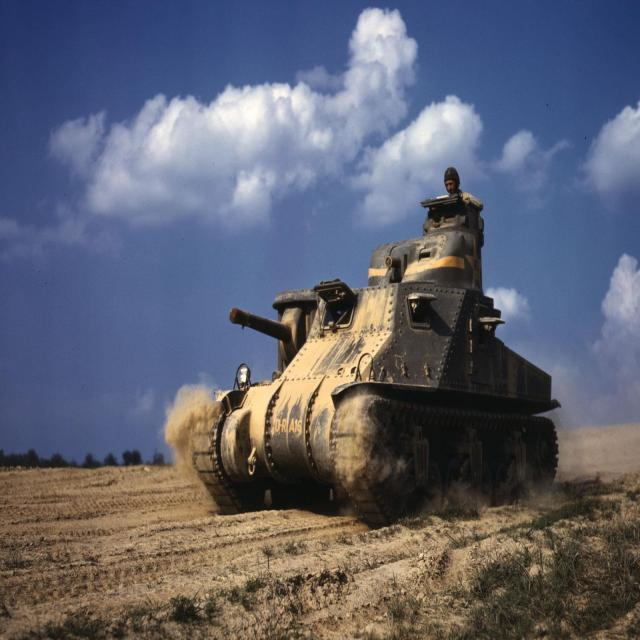Tanks: (147, 12, 567, 578)
